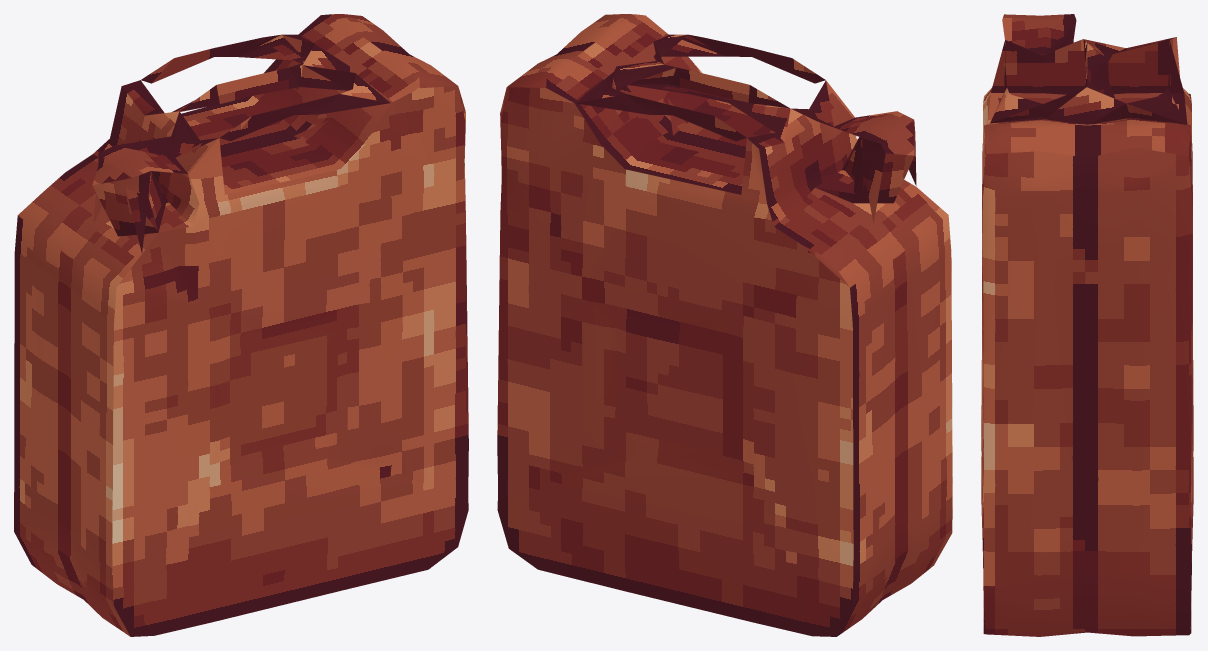
The model's file is metal_jerrycan.glb.
3 renders of one model, left to right at view 1: azimuth 30°, elevation 25°; view 2: azimuth 150°, elevation 25°; view 3: azimuth 270°, elevation 25°, orthographic. The views are drawn at different scales.
Parts seen in each view (by area): view 1: mesh; view 2: mesh; view 3: mesh.
Part boxes in pixels (<box>): mesh: <box>14,14,468,636</box>; mesh: <box>497,14,952,636</box>; mesh: <box>981,14,1193,636</box>.
Bounding box in the file's own units: 0.3502 × 0.4552 × 0.1718.
Materials: 1 (1 with a texture image).
